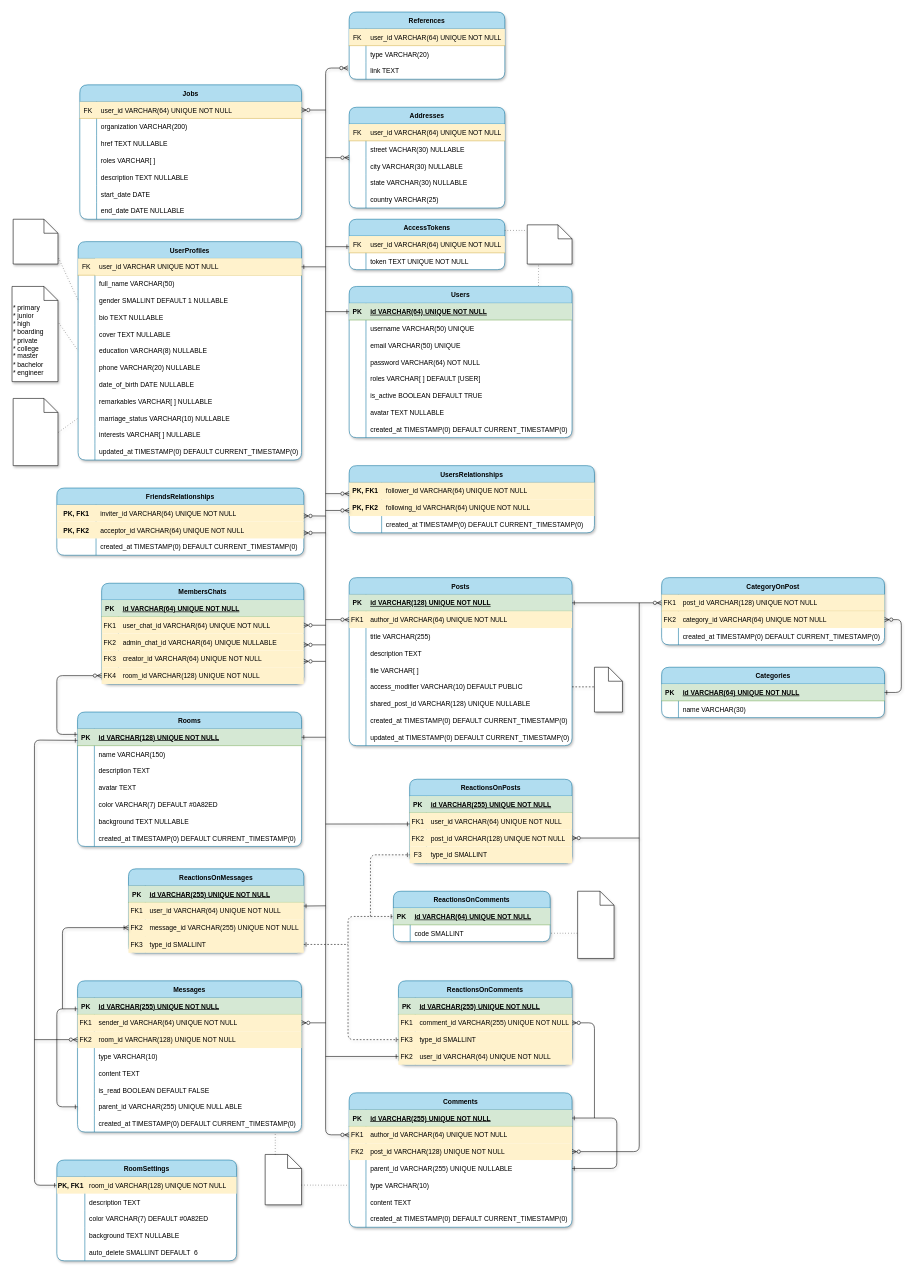
Image size: 920x1275. Some labels were removed from this diagram. Each missing label, with the centre of its shape:
* 0: another * 1: male * 2: female: point (35, 242)
* 1: like * 2: love * 3: wow * 4: haha * 5: sad * 6: angry: point (596, 925)
* private * friend * public: point (609, 690)
* single * dating * acquainted * married * divorced * undiclosed: point (35, 433)
* text * media * file * desc: point (283, 1180)
* USER * ADMIN: point (549, 245)
